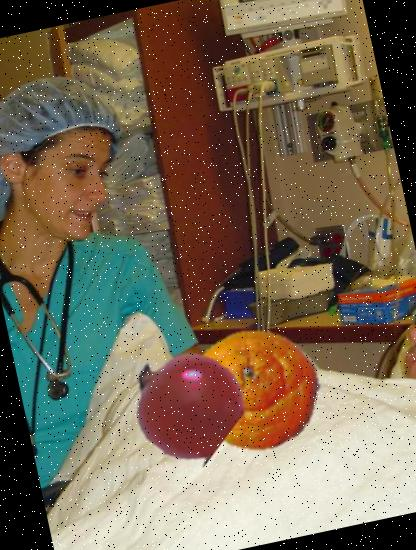Mandarine: (176, 312, 333, 470)
Redcurrant: (120, 338, 249, 468)
